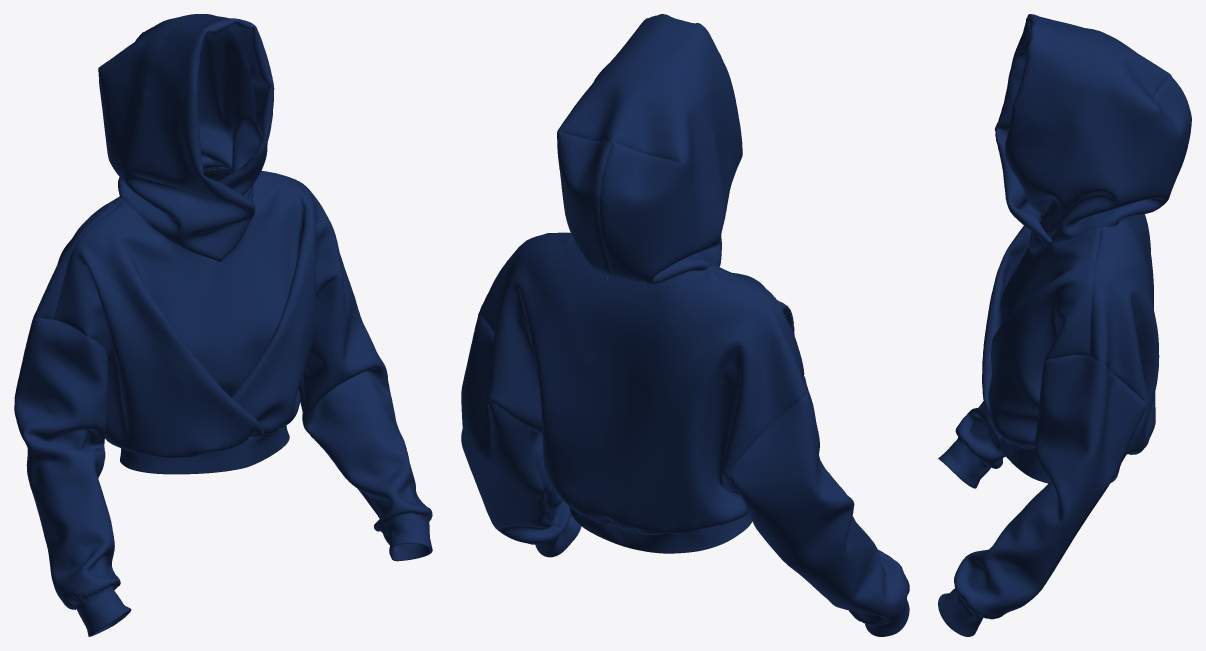
File: drape.glb
The picture shows the model from 3 angles, left to right: view 1: azimuth 30°, elevation 25°; view 2: azimuth 150°, elevation 25°; view 3: azimuth 270°, elevation 25°; orthographic projection. The views are drawn at different scales.
Parts seen in each view (by area): view 1: Object_39; view 2: Object_39; view 3: Object_39.
Part boxes in pixels (x1,y1,x2,y2): Object_39: (14,14,432,636); Object_39: (461,14,909,636); Object_39: (938,14,1191,636).
Size of the model in its own units: 0.6352 by 0.9182 by 0.3904.
